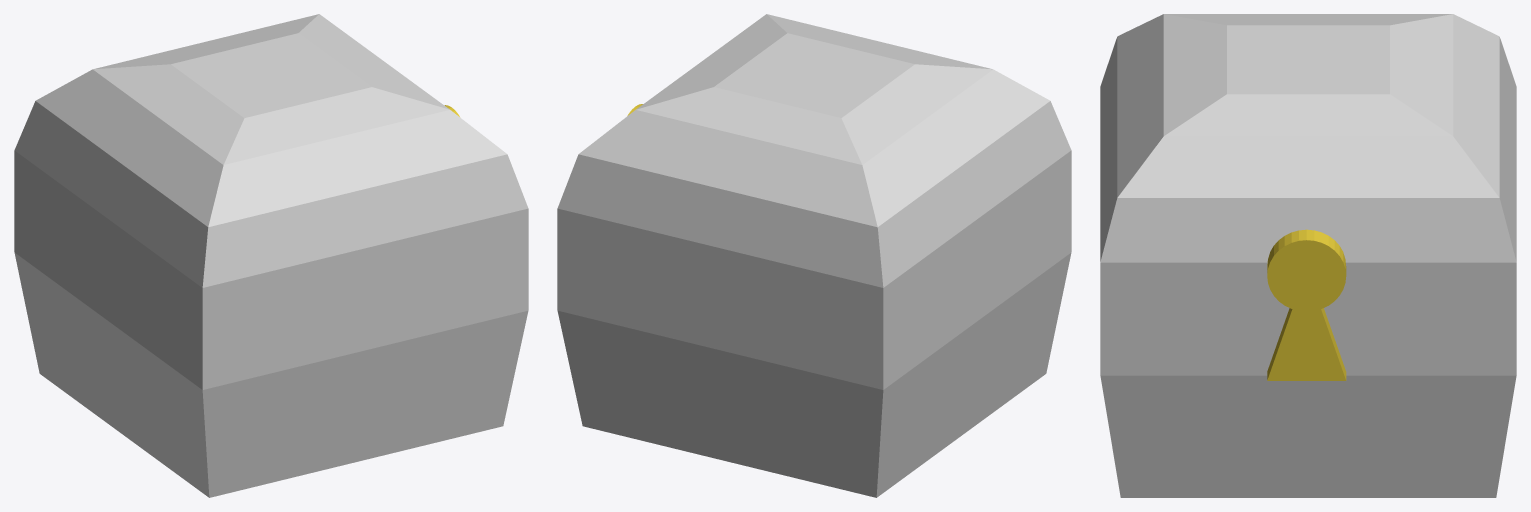
The model's file is itembox.fbx.
3 renders of one model, left to right at view 1: azimuth 30°, elevation 25°; view 2: azimuth 150°, elevation 25°; view 3: azimuth 270°, elevation 25°, orthographic. The views are drawn at different scales.
Visible parts, largest first — view 1: Plane; view 2: Plane; view 3: Plane.
Part boxes in pixels (left/top/right/bottom): Plane: left=14, top=14, right=528, bottom=497; Plane: left=557, top=14, right=1071, bottom=497; Plane: left=1100, top=14, right=1516, bottom=497.
Size of the model in its own units: 210 by 200 by 200.
